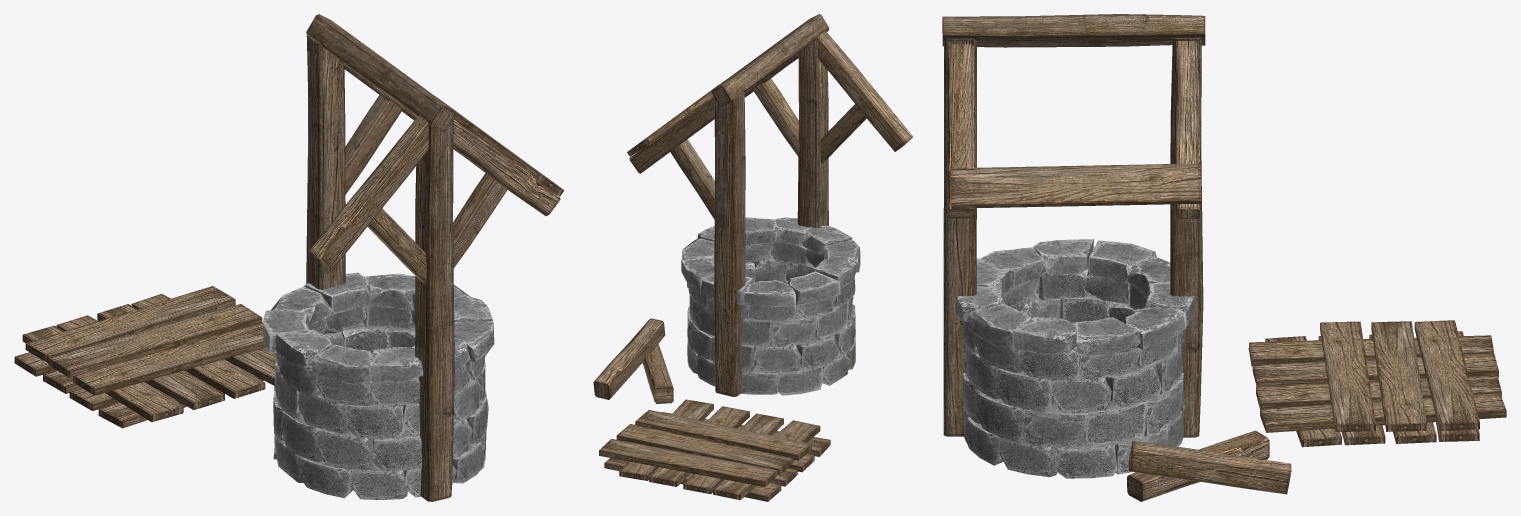
File: CA_Well_Construction_Stage2.fbx
3 views of the same model, side by side, from view 1: azimuth 30°, elevation 25°; view 2: azimuth 150°, elevation 25°; view 3: azimuth 270°, elevation 25° (orthographic). The views are drawn at different scales.
Visible parts, largest first — view 1: CA_Well_Stage2; view 2: CA_Well_Stage2; view 3: CA_Well_Stage2.
Boxes of the visible parts, x1=… form: CA_Well_Stage2: x1=14, y1=14, x2=564, y2=501; CA_Well_Stage2: x1=593, y1=14, x2=912, y2=501; CA_Well_Stage2: x1=942, y1=14, x2=1506, y2=501.
Bounding box in the file's own units: 246 × 295 × 360.
